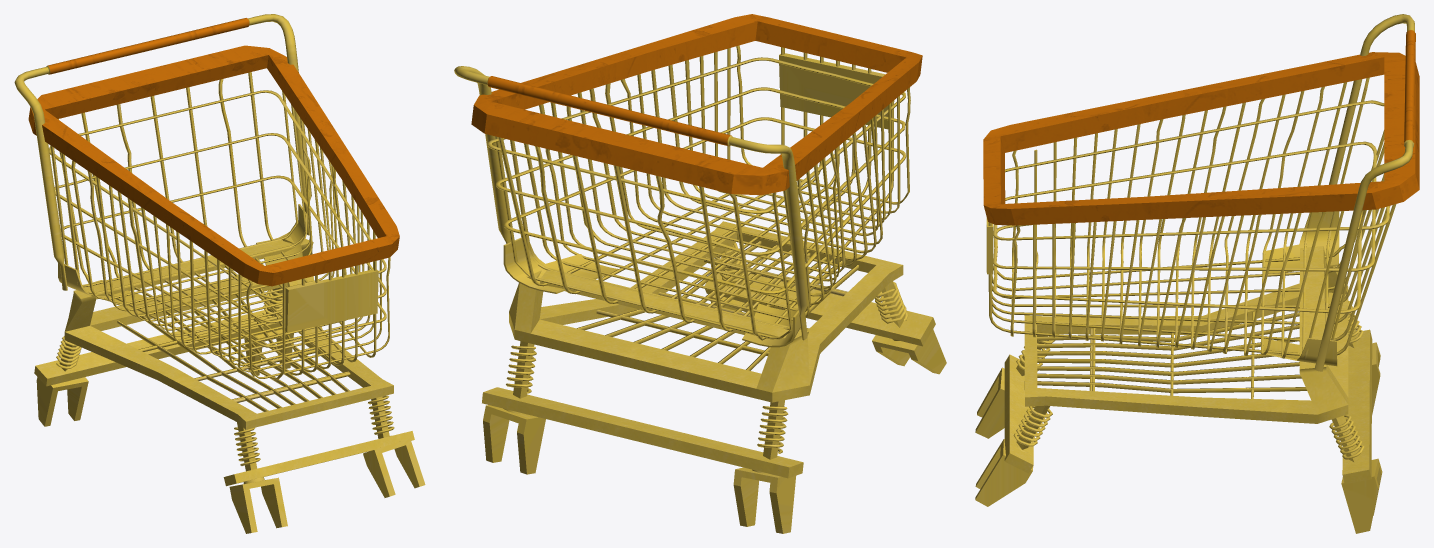
The model's file is Cart_2.fbx.
3 views of the same model, side by side, from view 1: azimuth 30°, elevation 25°; view 2: azimuth 150°, elevation 25°; view 3: azimuth 270°, elevation 25° (orthographic). The views are drawn at different scales.
Visible parts, largest first — view 1: Cart_Geo; view 2: Cart_Geo; view 3: Cart_Geo.
Boxes of the visible parts, x1,y1,x2,y2 form: Cart_Geo: (14, 14, 425, 533); Cart_Geo: (454, 14, 946, 533); Cart_Geo: (975, 14, 1419, 533).
Size of the model in its own units: 41.72 by 49.8 by 52.12.
Materials: 2 (2 with a texture image).
